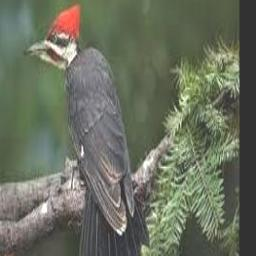Woodpecker: (25, 0, 148, 256)
